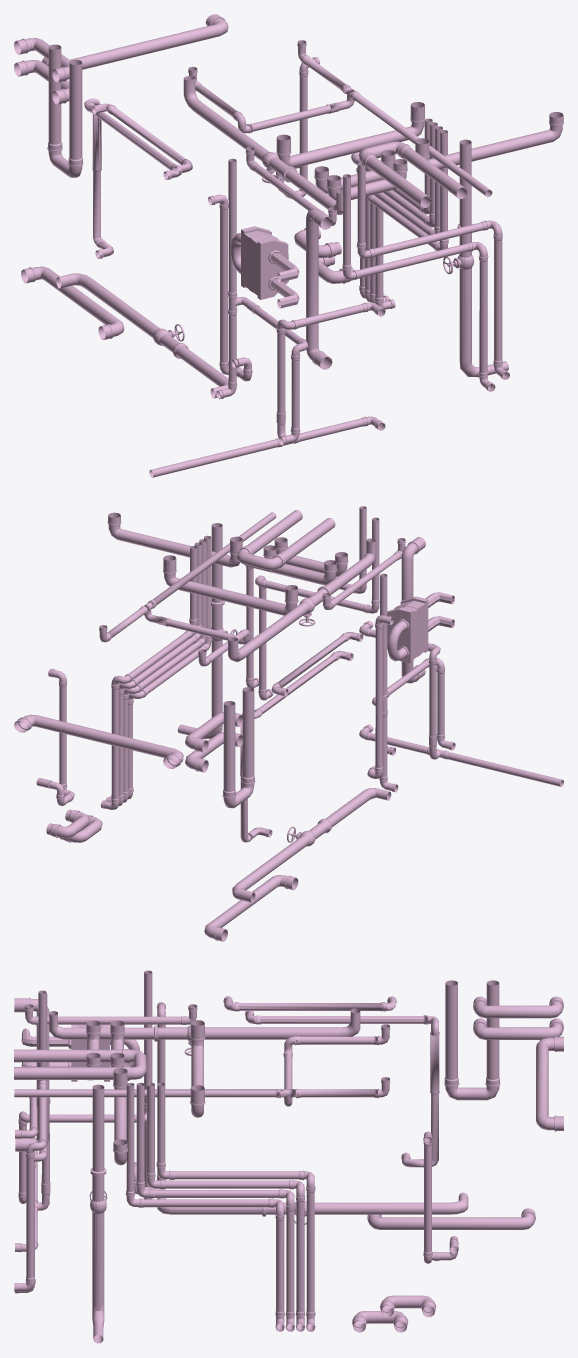
File: pipeline_grp.fbx
3 views of the same model, one above another, from view 1: azimuth 30°, elevation 25°; view 2: azimuth 150°, elevation 25°; view 3: azimuth 270°, elevation 25° (orthographic). The views are drawn at different scales.
Parts seen in each view (by area): view 1: pipeline_31_msh, pipeline_15_msh, pipeline_4_msh, pipeline_33_msh, pipeline_34_msh, pipeline_28_msh, pipeline_21_msh, pipeline_25_msh, pipeline_10_msh, pipeline_12_msh, pipeline_2_msh, pipeline_8_msh (+17 smaller); view 2: pipeline_15_msh, pipeline_28_msh, pipeline_31_msh, pipeline_4_msh, pipeline_25_msh, pipeline_10_msh, pipeline_27_msh, pipeline_19_msh, pipeline_12_msh, pipeline_21_msh, pipeline_34_msh, pipeline_11_msh (+19 smaller); view 3: pipeline_15_msh, pipeline_10_msh, pipeline_18_msh, pipeline_19_msh, pipeline_16_msh, pipeline_17_msh, pipeline_21_msh, pipeline_28_msh, pipeline_12_msh, pipeline_25_msh, pipeline_2_msh, pipeline_33_msh (+19 smaller).
Part boxes in pixels (box(x1,y1,x2,y2)): pipeline_31_msh: box(149, 302, 385, 477); pipeline_15_msh: box(188, 40, 492, 197); pipeline_4_msh: box(216, 158, 308, 445); pipeline_33_msh: box(356, 162, 509, 379); pipeline_34_msh: box(342, 174, 495, 391); pipeline_28_msh: box(47, 44, 83, 177); pipeline_21_msh: box(443, 139, 508, 377); pipeline_25_msh: box(56, 273, 228, 398); pipeline_10_msh: box(183, 76, 342, 214); pipeline_12_msh: box(359, 141, 467, 207); pipeline_2_msh: box(84, 98, 181, 258); pipeline_8_msh: box(241, 226, 288, 299); pipeline_15_msh: box(99, 512, 276, 666); pipeline_28_msh: box(222, 687, 255, 808); pipeline_31_msh: box(359, 621, 563, 786); pipeline_4_msh: box(372, 573, 455, 792); pipeline_25_msh: box(232, 788, 391, 902); pipeline_10_msh: box(228, 538, 375, 661); pipeline_27_msh: box(14, 714, 183, 768); pipeline_19_msh: box(100, 546, 197, 809); pipeline_12_msh: box(236, 510, 335, 570); pipeline_21_msh: box(177, 523, 237, 738); pipeline_34_msh: box(255, 517, 379, 700); pipeline_11_msh: box(163, 555, 298, 615); pipeline_15_msh: box(14, 1024, 390, 1106); pipeline_10_msh: box(49, 1008, 360, 1055); pipeline_18_msh: box(125, 1083, 284, 1331); pipeline_19_msh: box(156, 1082, 315, 1331); pipeline_16_msh: box(146, 1082, 305, 1331); pipeline_17_msh: box(136, 1082, 294, 1331); pipeline_21_msh: box(89, 1084, 107, 1343); pipeline_28_msh: box(444, 980, 500, 1100); pipeline_12_msh: box(14, 1048, 146, 1080); pipeline_25_msh: box(157, 1192, 468, 1224); pipeline_2_msh: box(245, 1011, 439, 1167); pipeline_33_msh: box(14, 990, 47, 1291).
Size of the model in its own units: 573 by 332 by 603.
